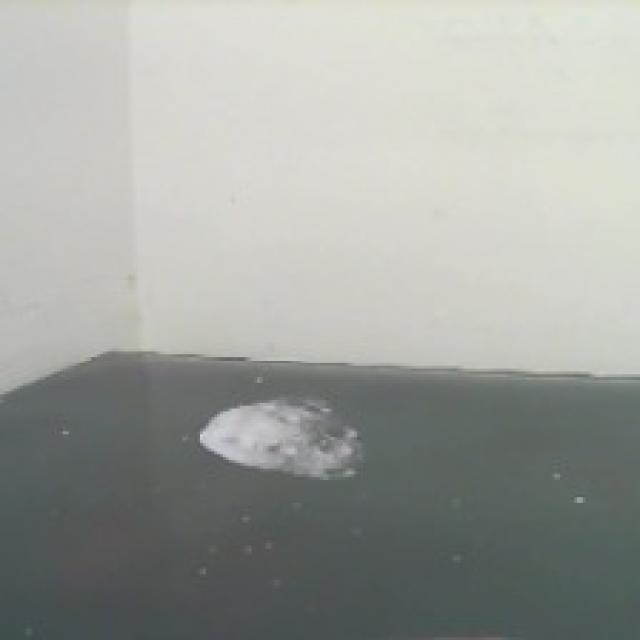Asteroid: (202, 389, 371, 487)
